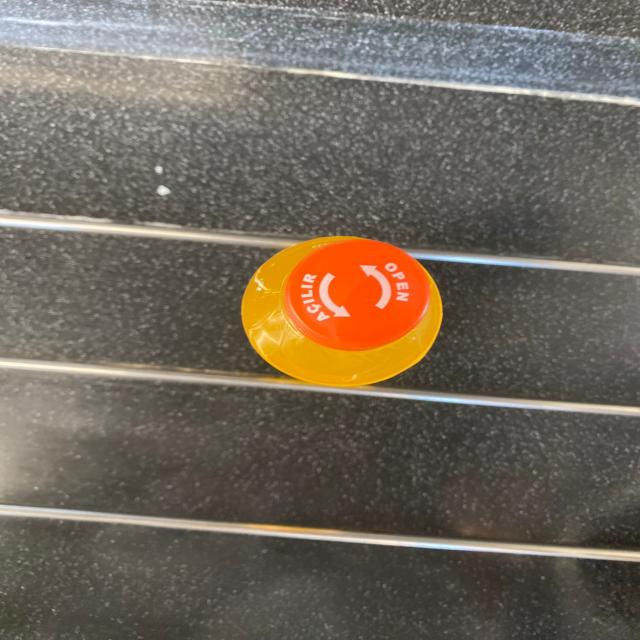yan_yemek: (239, 234, 443, 387)
